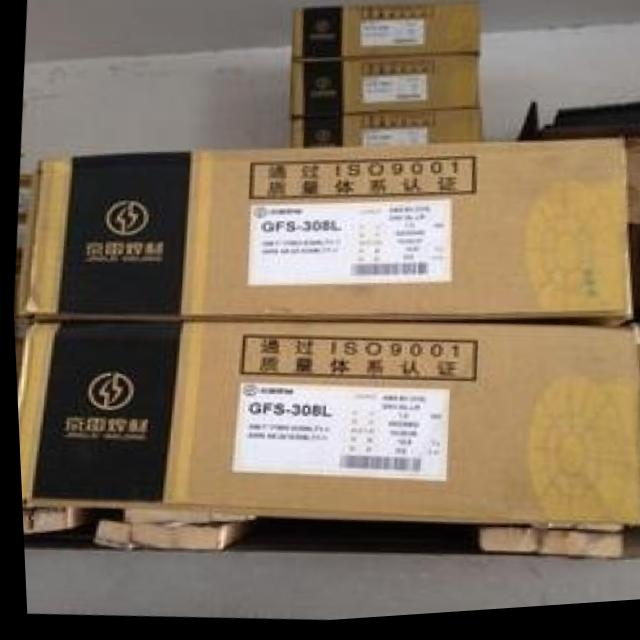box: (14, 321, 640, 532), (17, 148, 627, 332), (287, 61, 480, 122), (291, 7, 480, 62), (287, 113, 481, 151)
